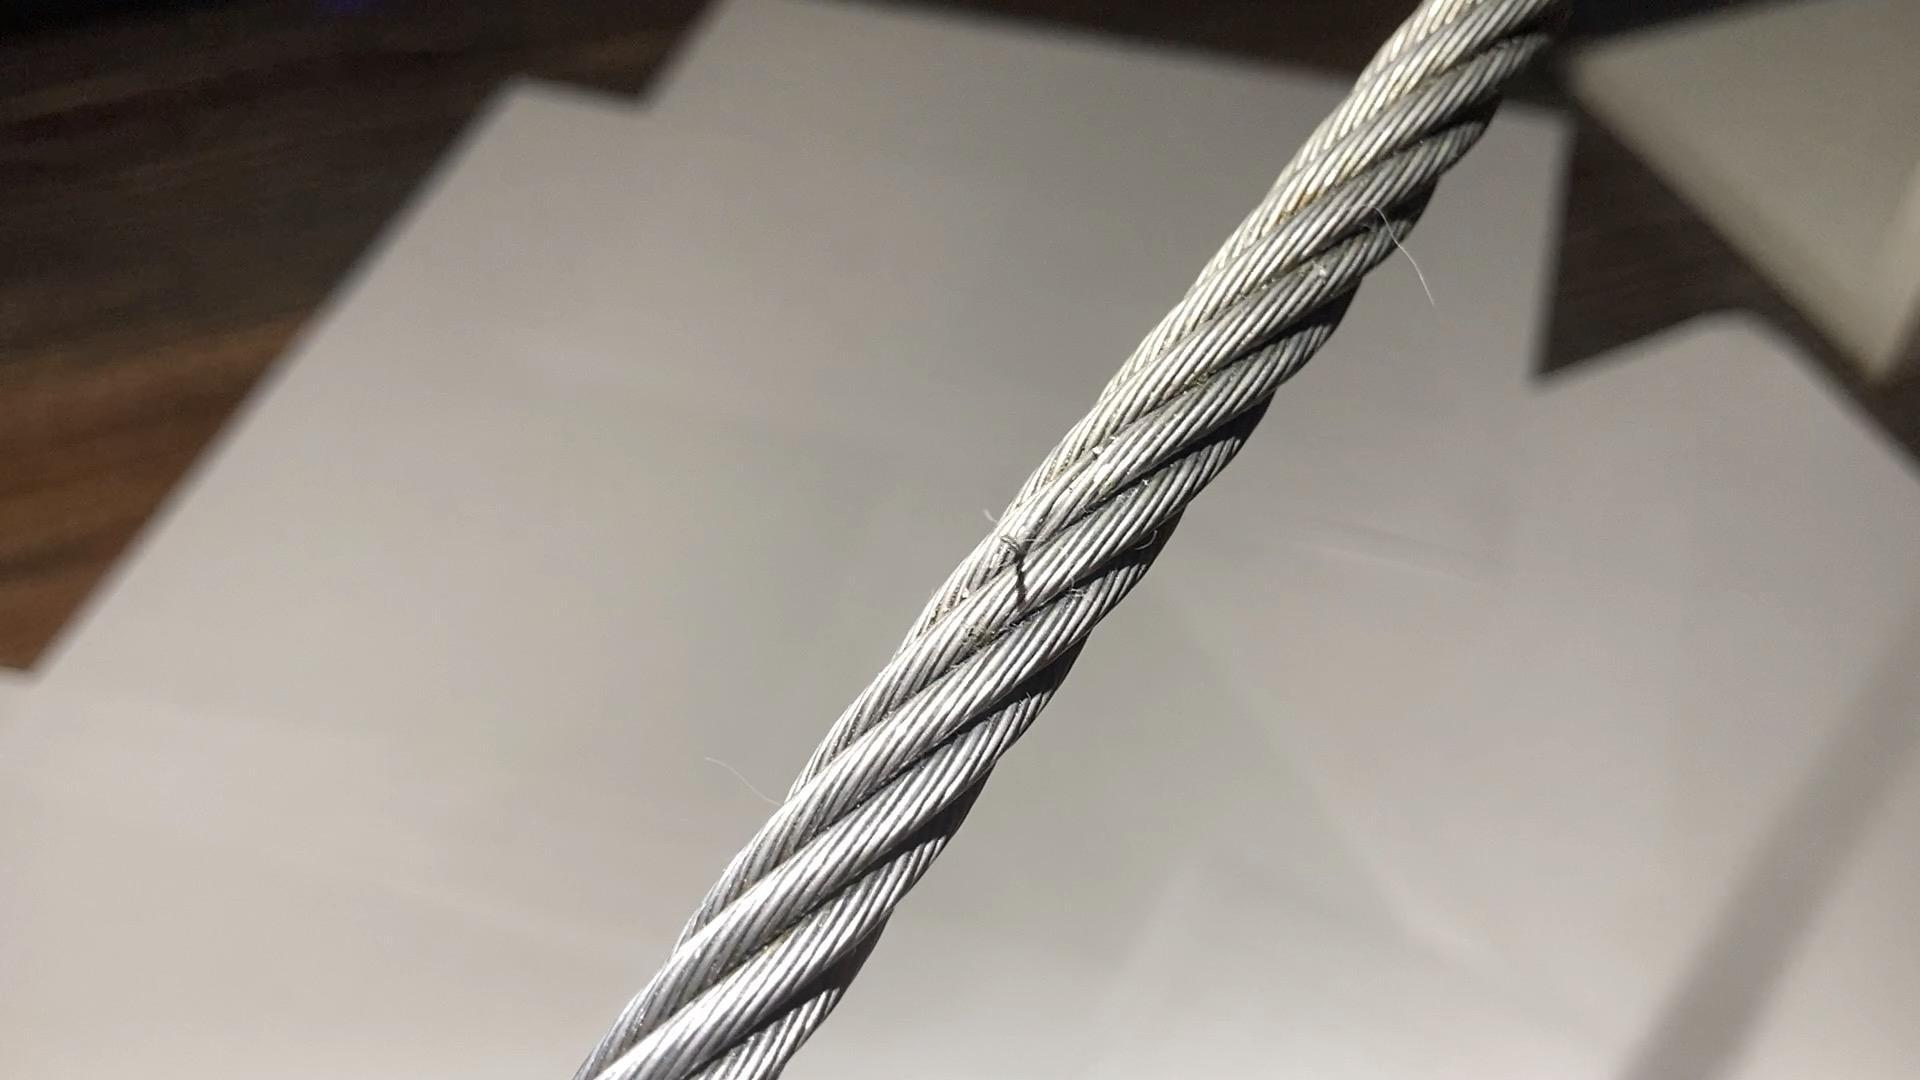break: (981, 506, 1064, 617)
